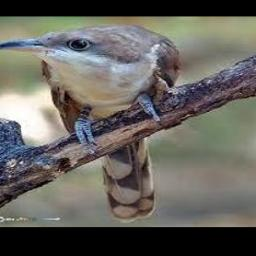Cuckoo: (0, 24, 182, 219)
